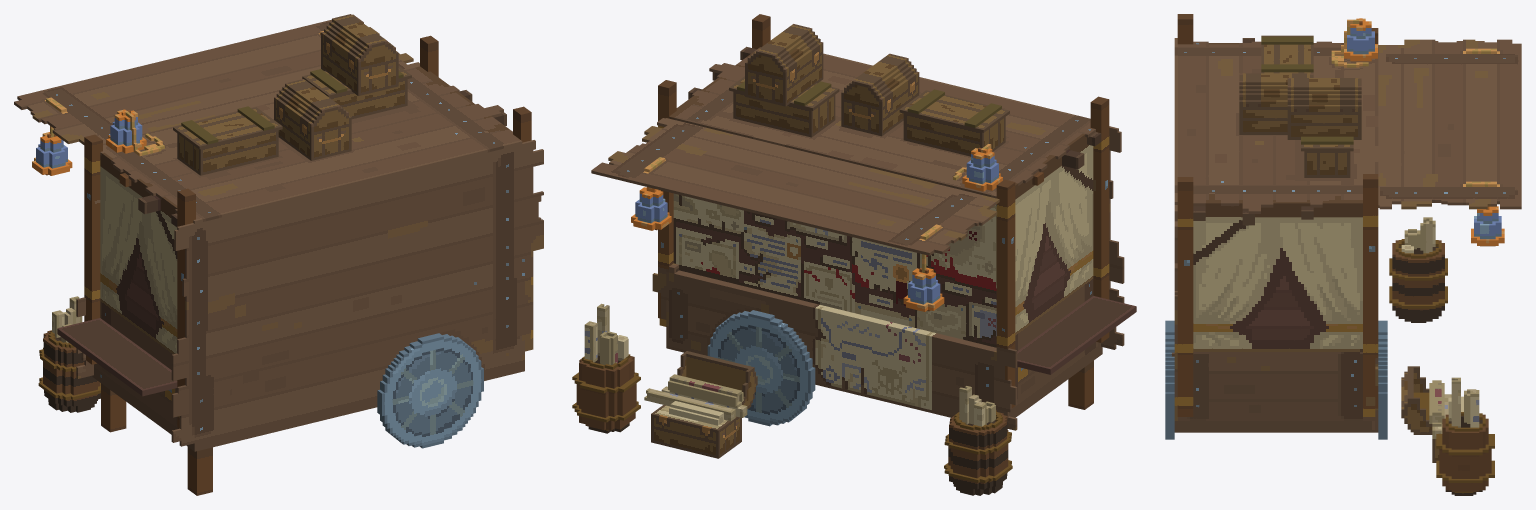
3 renders of one model, left to right at view 1: azimuth 30°, elevation 25°; view 2: azimuth 150°, elevation 25°; view 3: azimuth 270°, elevation 25°, orthographic.
Visible parts, largest first — view 1: cart-Local, roof-Local, box-Local, chest2-Local, chest1-Local, barrel1-Local, box 2-Local, lantern 4-Local, lantern3-Local; view 2: cart-Local, roof-Local, chest fill-Local, barrel2-Local, barrel1-Local, box-Local, chest2-Local, chest1-Local, box 2-Local, lantern 4-Local, lantern3-Local, lantern 2-Local; view 3: cart-Local, roof-Local, barrel2-Local, barrel1-Local, chest2-Local, chest1-Local, chest fill-Local, box 2-Local, box-Local, lantern 4-Local, lantern 2-Local.
Boxes of the visible parts, box(x1,y1,x2,y2) form: cart-Local: box(57, 35, 543, 495); roof-Local: box(14, 14, 419, 144); box-Local: box(173, 106, 282, 175); chest2-Local: box(321, 14, 398, 95); chest1-Local: box(274, 79, 351, 160); barrel1-Local: box(38, 296, 100, 412); box 2-Local: box(302, 66, 411, 119); lantern 4-Local: box(106, 109, 164, 156); lantern3-Local: box(32, 126, 72, 175); cart-Local: box(652, 14, 1136, 430); roof-Local: box(591, 118, 999, 255); chest fill-Local: box(644, 351, 757, 458); barrel2-Local: box(572, 303, 640, 433); barrel1-Local: box(944, 386, 1012, 495); box-Local: box(899, 89, 1009, 156); chest2-Local: box(745, 24, 823, 106); chest1-Local: box(841, 53, 919, 136); box 2-Local: box(729, 76, 839, 137); lantern 4-Local: box(953, 144, 1002, 191); lantern3-Local: box(903, 254, 944, 311); lantern 2-Local: box(631, 187, 671, 230); cart-Local: box(1165, 14, 1387, 439); roof-Local: box(1378, 39, 1521, 209); barrel2-Local: box(1436, 377, 1494, 495); barrel1-Local: box(1389, 217, 1447, 322); chest2-Local: box(1287, 78, 1361, 139); chest1-Local: box(1239, 73, 1313, 134); chest fill-Local: box(1401, 366, 1463, 462); box 2-Local: box(1301, 136, 1353, 177); box-Local: box(1261, 35, 1313, 73); lantern 4-Local: box(1331, 18, 1377, 67); lantern 2-Local: box(1471, 206, 1504, 246).
Bounding box in the file's own units: 154 × 127 × 115.
12 materials, 12 textured.
